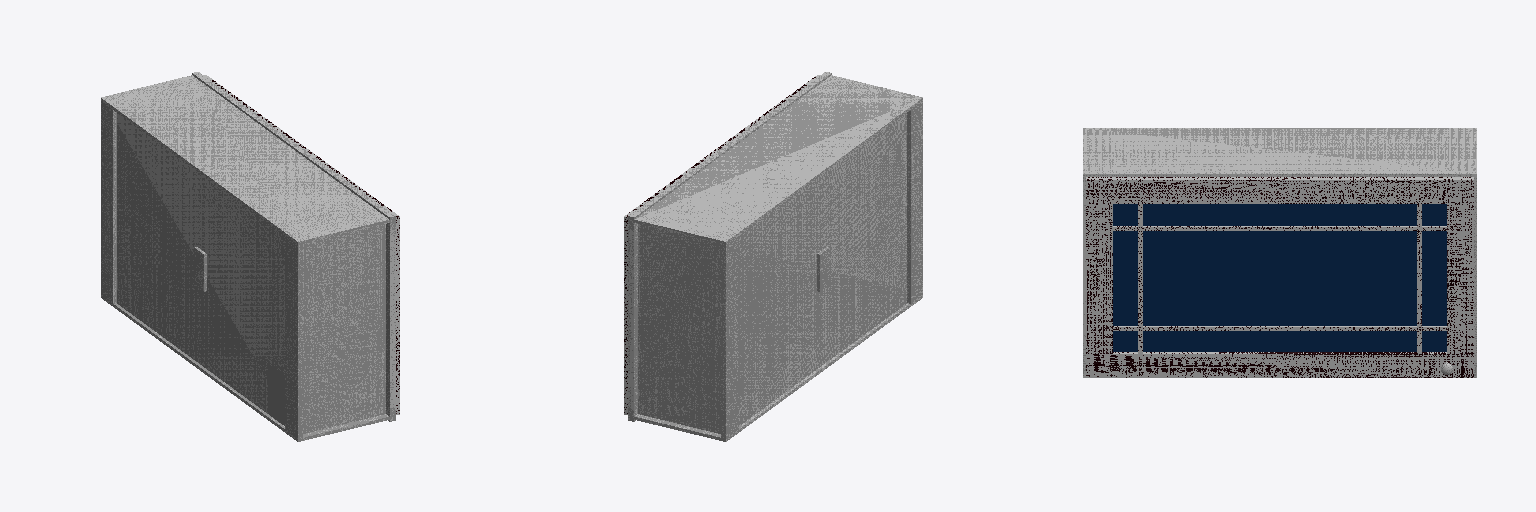
The picture shows the model from 3 angles: view 1: azimuth 30°, elevation 25°; view 2: azimuth 150°, elevation 25°; view 3: azimuth 270°, elevation 25°; orthographic projection.
Visible parts, largest first — view 1: mesh11.001_mesh11-geometry, mesh9.001_mesh9-geometry, mesh4.002_mesh4-geometry, mesh2.002_mesh2-geometry, mesh2.001_mesh2-geometry, mesh7.001_mesh7-geometry, mesh6.001_mesh6-geometry, mesh8.001_mesh8-geometry, mesh22_mesh22-geometry, mesh16.002_mesh16-geometry, mesh15.002_mesh15-geometry; view 2: mesh11.001_mesh11-geometry, mesh9.001_mesh9-geometry, mesh3.001_mesh3-geometry, mesh2.001_mesh2-geometry, mesh2.002_mesh2-geometry, mesh7.002_mesh7-geometry, mesh6.001_mesh6-geometry, mesh8.001_mesh8-geometry, mesh16.002_mesh16-geometry, mesh14.002_mesh14-geometry; view 3: mesh13.002_mesh13-geometry, mesh9.001_mesh9-geometry, mesh16.002_mesh16-geometry, mesh12.002_mesh12-geometry, mesh15.002_mesh15-geometry, mesh14.002_mesh14-geometry, mesh8.001_mesh8-geometry, mesh20.002_mesh20-geometry, mesh17.002_mesh17-geometry, mesh18.002_mesh18-geometry, mesh19.002_mesh19-geometry, mesh7.002_mesh7-geometry (+1 smaller).
Boxes of the visible parts, x1=… form: mesh11.001_mesh11-geometry: x1=117, y1=113, x2=302, y2=437; mesh9.001_mesh9-geometry: x1=101, y1=75, x2=389, y2=244; mesh4.002_mesh4-geometry: x1=303, y1=224, x2=385, y2=433; mesh2.002_mesh2-geometry: x1=285, y1=236, x2=300, y2=438; mesh2.001_mesh2-geometry: x1=101, y1=101, x2=116, y2=303; mesh7.001_mesh7-geometry: x1=386, y1=228, x2=395, y2=408; mesh6.001_mesh6-geometry: x1=101, y1=295, x2=389, y2=441; mesh8.001_mesh8-geometry: x1=192, y1=72, x2=395, y2=229; mesh22_mesh22-geometry: x1=268, y1=363, x2=284, y2=425; mesh16.002_mesh16-geometry: x1=204, y1=75, x2=399, y2=241; mesh15.002_mesh15-geometry: x1=396, y1=241, x2=399, y2=390; mesh11.001_mesh11-geometry: x1=721, y1=113, x2=906, y2=437; mesh9.001_mesh9-geometry: x1=634, y1=75, x2=922, y2=244; mesh3.001_mesh3-geometry: x1=638, y1=224, x2=720, y2=433; mesh2.001_mesh2-geometry: x1=723, y1=236, x2=738, y2=438; mesh2.002_mesh2-geometry: x1=907, y1=101, x2=922, y2=303; mesh7.002_mesh7-geometry: x1=628, y1=228, x2=637, y2=408; mesh6.001_mesh6-geometry: x1=634, y1=295, x2=922, y2=441; mesh8.001_mesh8-geometry: x1=628, y1=72, x2=831, y2=229; mesh16.002_mesh16-geometry: x1=624, y1=75, x2=819, y2=241; mesh14.002_mesh14-geometry: x1=624, y1=241, x2=627, y2=390; mesh13.002_mesh13-geometry: x1=1113, y1=204, x2=1446, y2=351; mesh9.001_mesh9-geometry: x1=1083, y1=128, x2=1476, y2=170; mesh16.002_mesh16-geometry: x1=1086, y1=177, x2=1473, y2=203; mesh12.002_mesh12-geometry: x1=1086, y1=352, x2=1473, y2=377; mesh15.002_mesh15-geometry: x1=1086, y1=204, x2=1112, y2=353; mesh14.002_mesh14-geometry: x1=1447, y1=204, x2=1473, y2=353; mesh8.001_mesh8-geometry: x1=1083, y1=171, x2=1476, y2=186; mesh20.002_mesh20-geometry: x1=1113, y1=326, x2=1446, y2=330; mesh17.002_mesh17-geometry: x1=1113, y1=226, x2=1446, y2=230; mesh18.002_mesh18-geometry: x1=1417, y1=204, x2=1421, y2=353; mesh19.002_mesh19-geometry: x1=1138, y1=204, x2=1142, y2=353; mesh7.002_mesh7-geometry: x1=1474, y1=187, x2=1476, y2=364.
Bounding box in the file's own units: 0.2769 × 0.4767 × 0.8343.
8 materials, 1 textured.